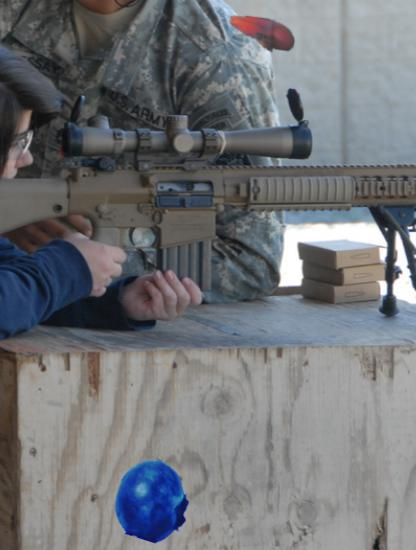Banana: (227, 0, 297, 70)
Huckleberry: (114, 461, 194, 541)
